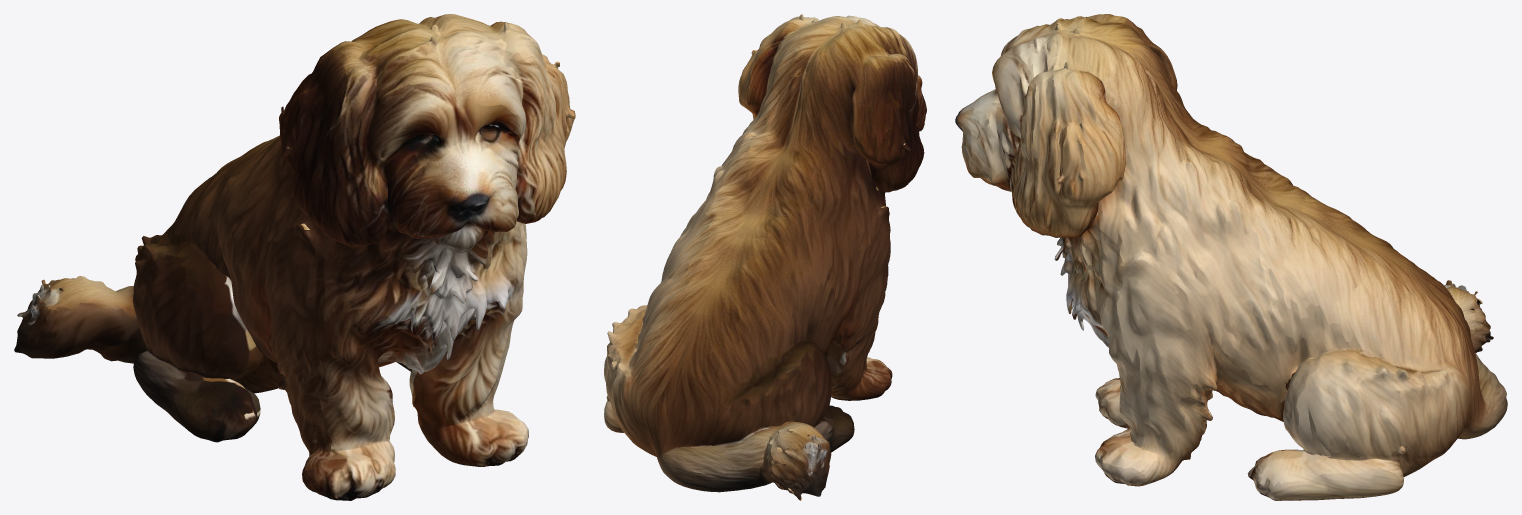
File: cavapoo-mobile.glb
3 views of the same model, side by side, from view 1: azimuth 30°, elevation 25°; view 2: azimuth 150°, elevation 25°; view 3: azimuth 270°, elevation 25° (orthographic). The views are drawn at different scales.
Parts seen in each view (by area): view 1: Dog; view 2: Dog; view 3: Dog.
Boxes of the visible parts, x1,y1,x2,y2 form: Dog: [14, 14, 575, 500]; Dog: [604, 14, 926, 500]; Dog: [955, 14, 1507, 500].
Bounding box in the file's own units: 0.2297 × 0.2892 × 0.35.
Materials: 1 (1 with a texture image).
